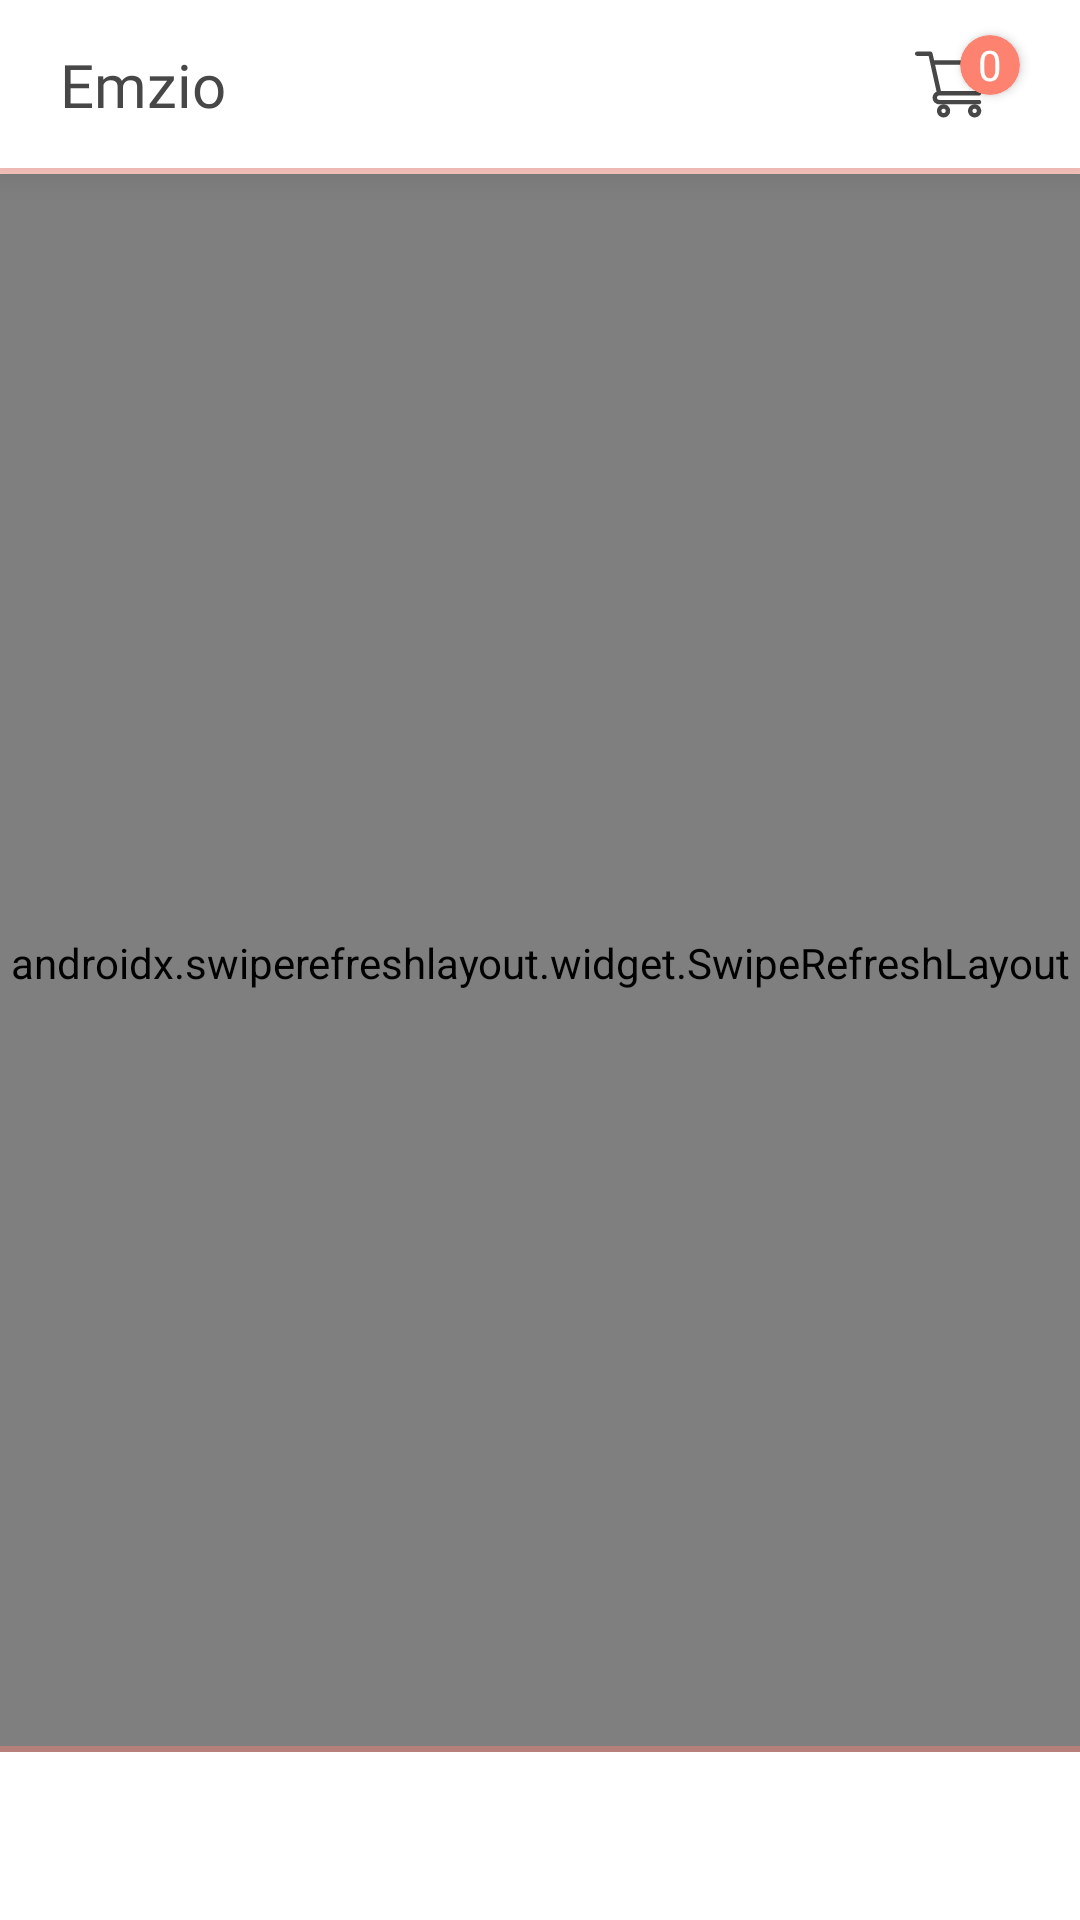

Point at icon controls on the screen. Image size 1080 × 1920, points as (x=x, y=y).
commerce and shopping: (x=952, y=82)
